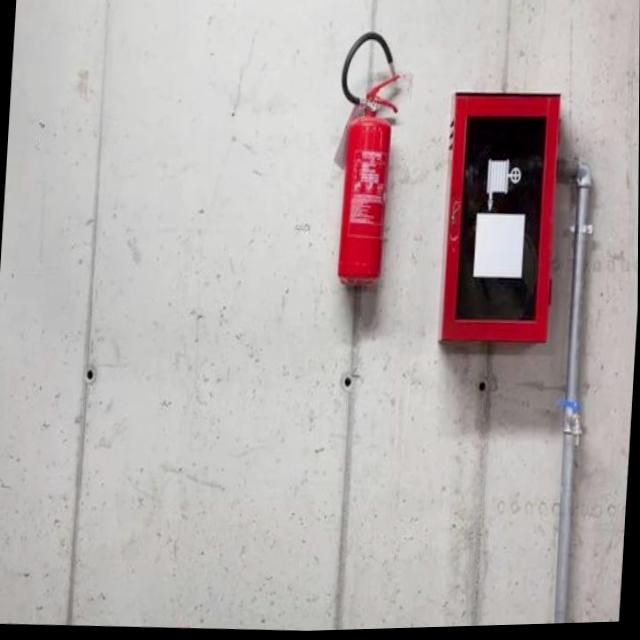FireExtinguisher: (320, 25, 412, 296)
